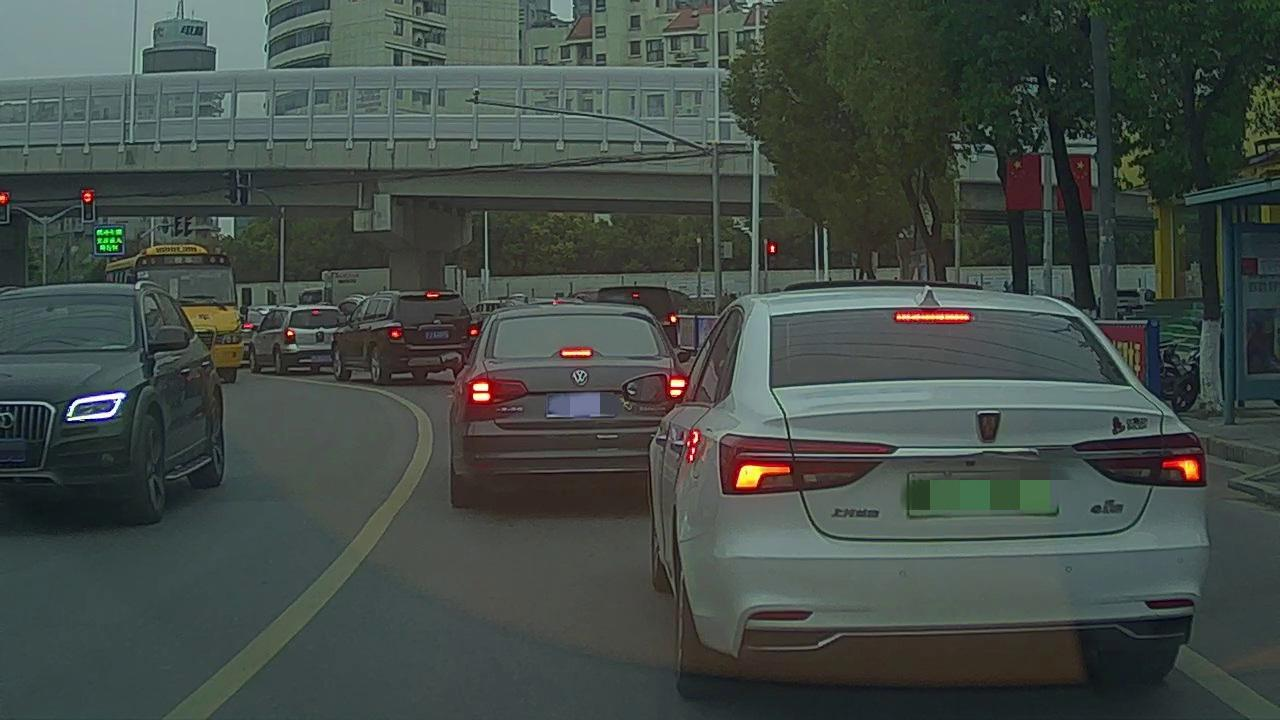traffic_light: (82, 191, 94, 220)
